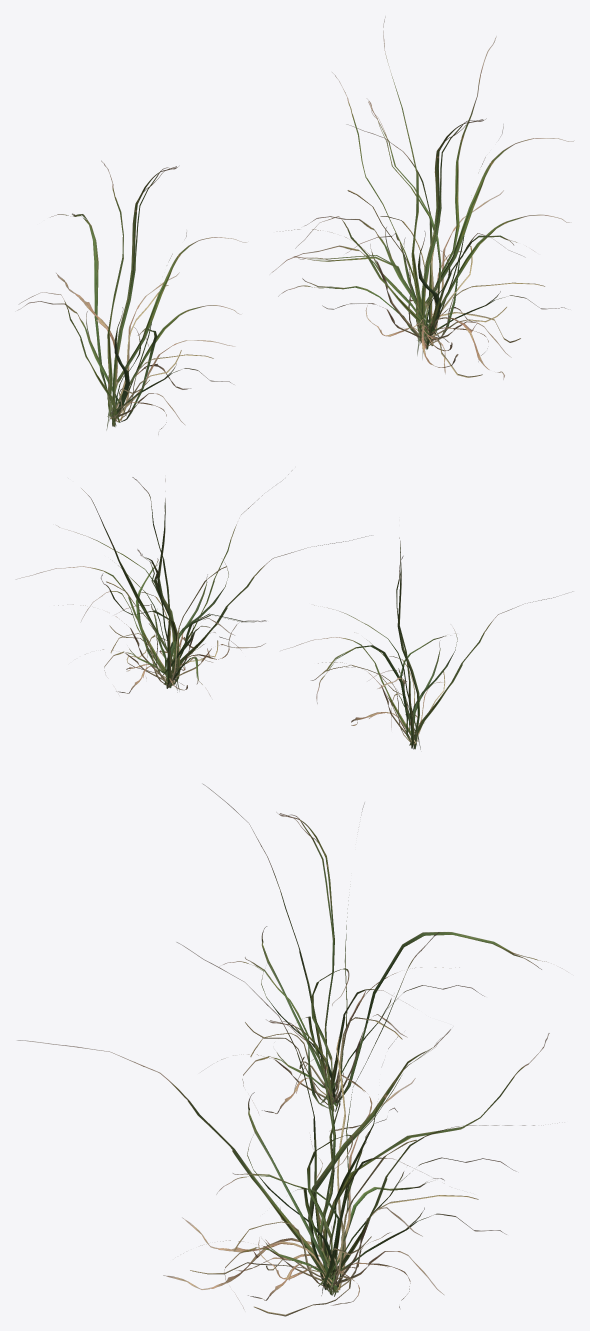
The model's file is grass_tuft_a.glb.
3 renders of one model, top to bottom at view 1: azimuth 30°, elevation 25°; view 2: azimuth 150°, elevation 25°; view 3: azimuth 270°, elevation 25°, orthographic. The views are drawn at different scales.
Visible parts, largest first — view 1: grass_medium_02_c_w; view 2: grass_medium_02_c_w; view 3: grass_medium_02_c_w.
Part boxes in pixels (x1,y1,x2,y2): grass_medium_02_c_w: (17, 17, 574, 434); grass_medium_02_c_w: (16, 470, 572, 749); grass_medium_02_c_w: (17, 784, 562, 1316).
Bounding box in the file's own units: 0.9536 × 0.4598 × 0.6256.
1 material, 1 textured.
